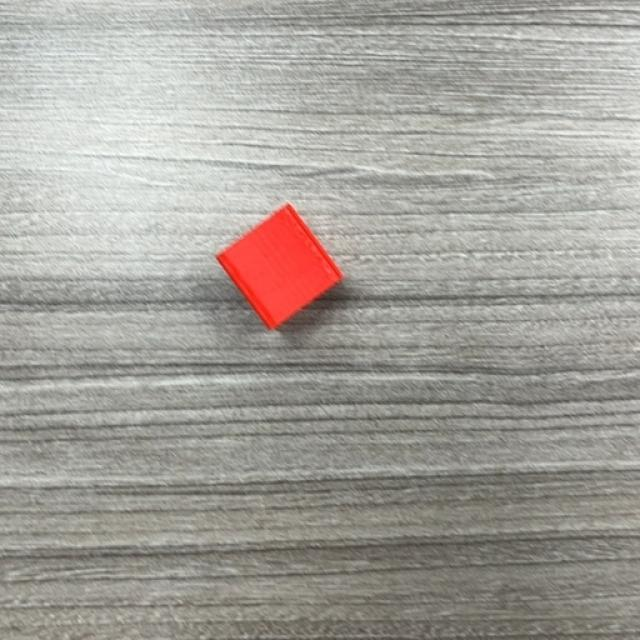Rojo: (215, 204, 344, 331)
